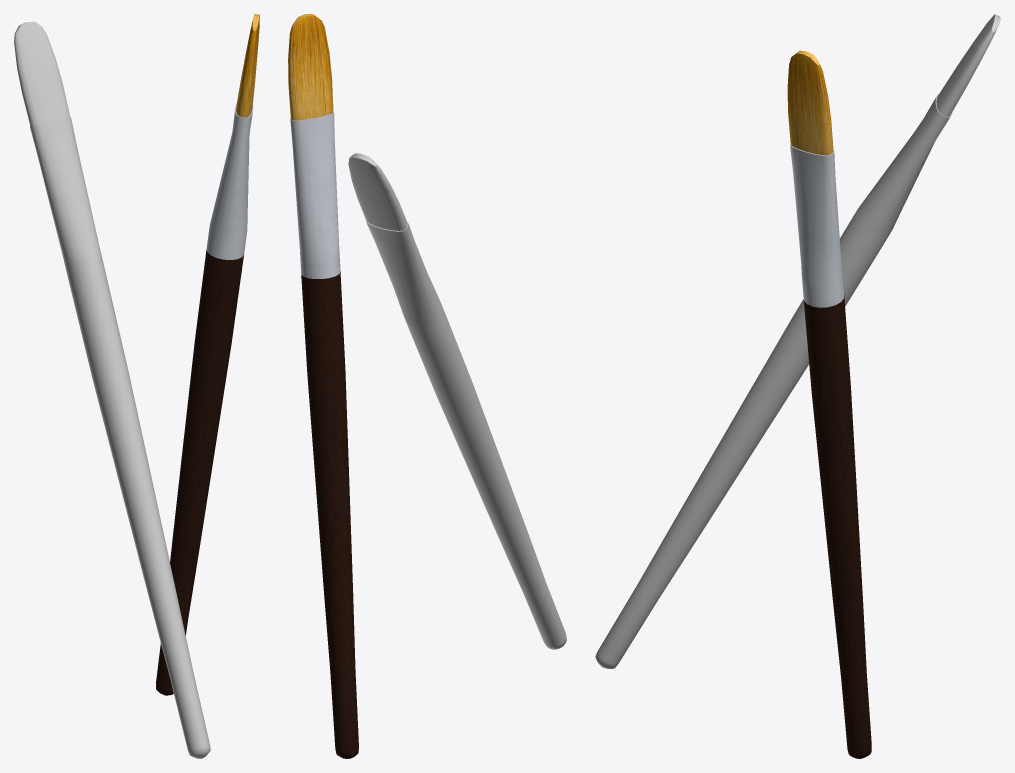
Rendered from drawPen.gltf.
The picture shows the model from 3 angles, left to right: view 1: azimuth 30°, elevation 25°; view 2: azimuth 150°, elevation 25°; view 3: azimuth 270°, elevation 25°; orthographic projection. The views are drawn at different scales.
Parts seen in each view (by area): view 1: PaintBrush3v2_PaintBrush3v2_0, PaintBrush3_PaintBrush3_0; view 2: PaintBrush3_PaintBrush3_0, PaintBrush3v2_PaintBrush3v2_0; view 3: PaintBrush3_PaintBrush3_0, PaintBrush3v2_PaintBrush3v2_0.
Part boxes in pixels (<box>): PaintBrush3v2_PaintBrush3v2_0: <box>14,21,210,758</box>; PaintBrush3_PaintBrush3_0: <box>156,14,259,695</box>; PaintBrush3_PaintBrush3_0: <box>288,14,358,758</box>; PaintBrush3v2_PaintBrush3v2_0: <box>348,153,566,649</box>; PaintBrush3_PaintBrush3_0: <box>787,50,871,758</box>; PaintBrush3v2_PaintBrush3v2_0: <box>595,14,1000,668</box>.
Size of the model in its own units: 13.61 by 51.92 by 25.78.
